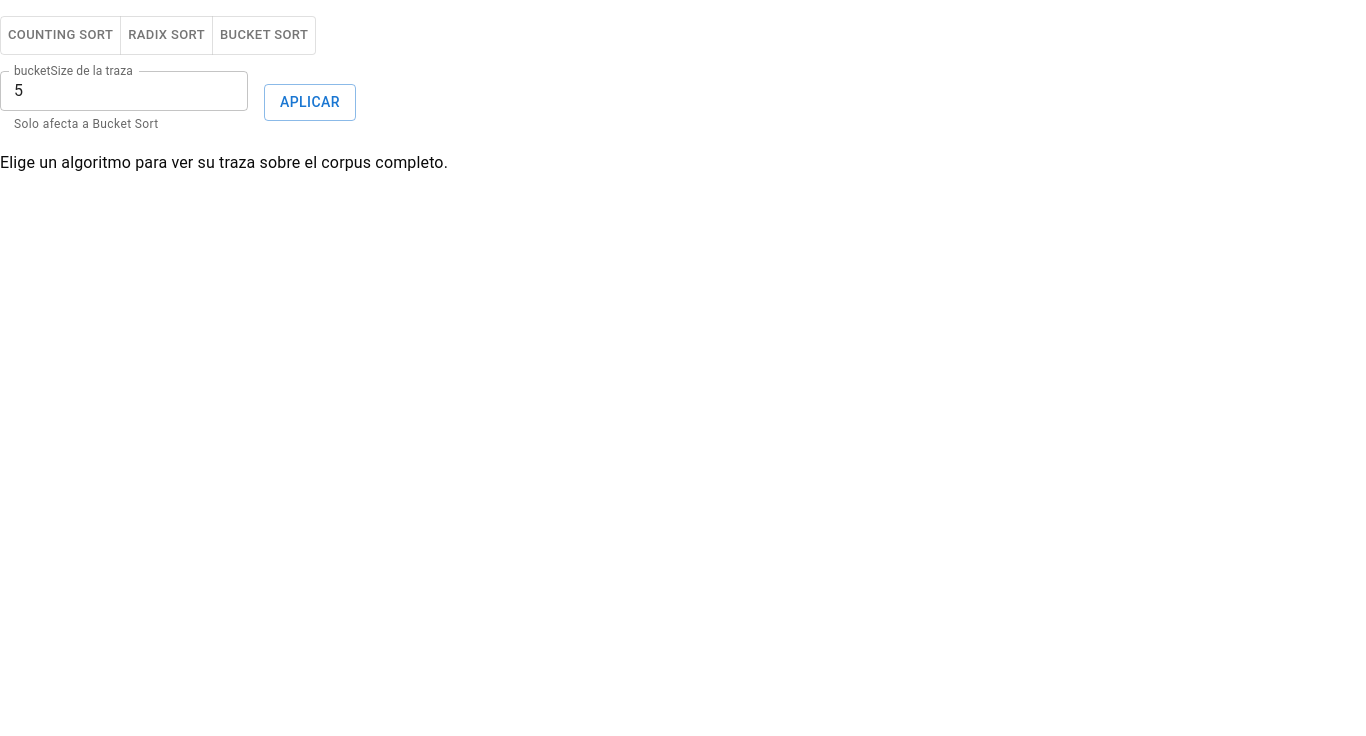
it: SortTraceView (REQ-16, AC-12, AC-25) › muestra los pasos de Bucket Sort en orden y pide la traza con el bucketSize elegido
Replace the text in the field labelled "bucketSize de la traza" with "2" at (124, 91), box x1=0 y1=71 x2=248 y2=111
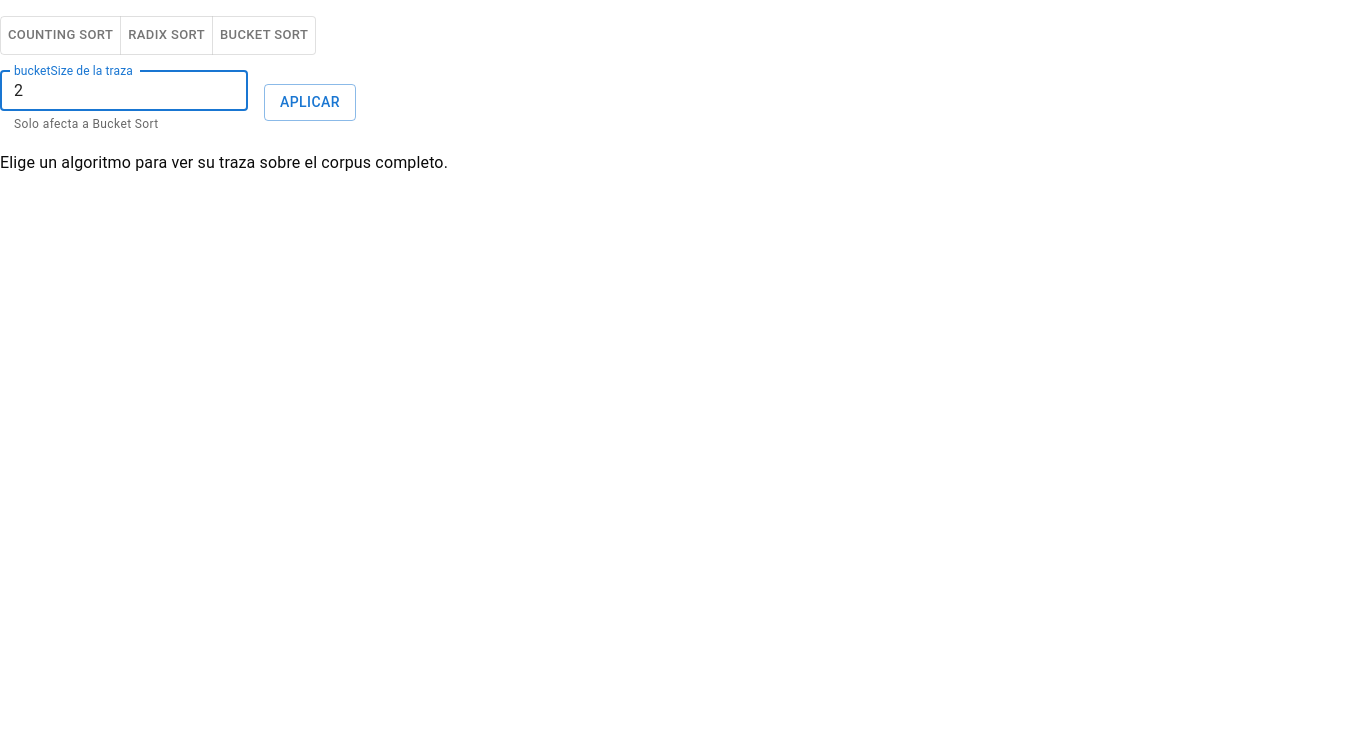
Click the button "Aplicar".
click(310, 103)  # box x1=264 y1=84 x2=356 y2=121
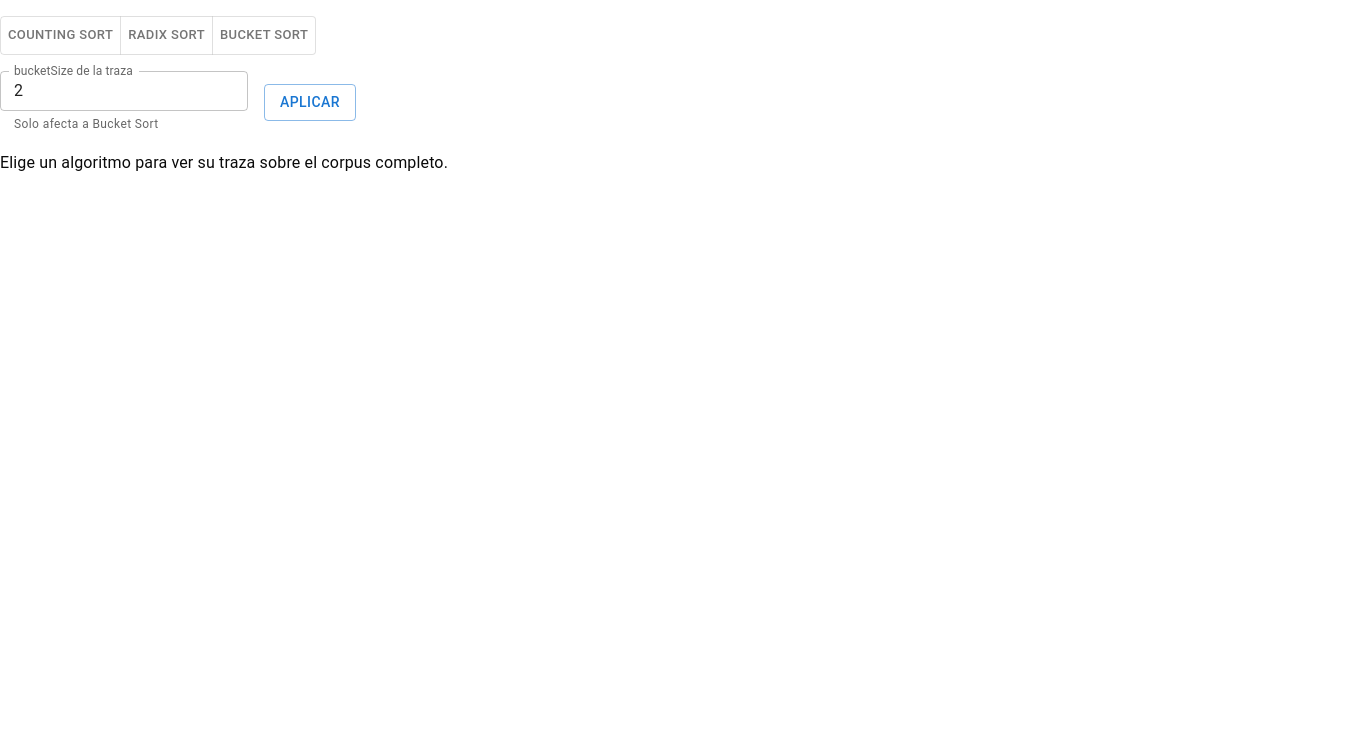
Click the button "Bucket Sort".
click(264, 35)  # box x1=212 y1=16 x2=316 y2=55
(page scrolled)
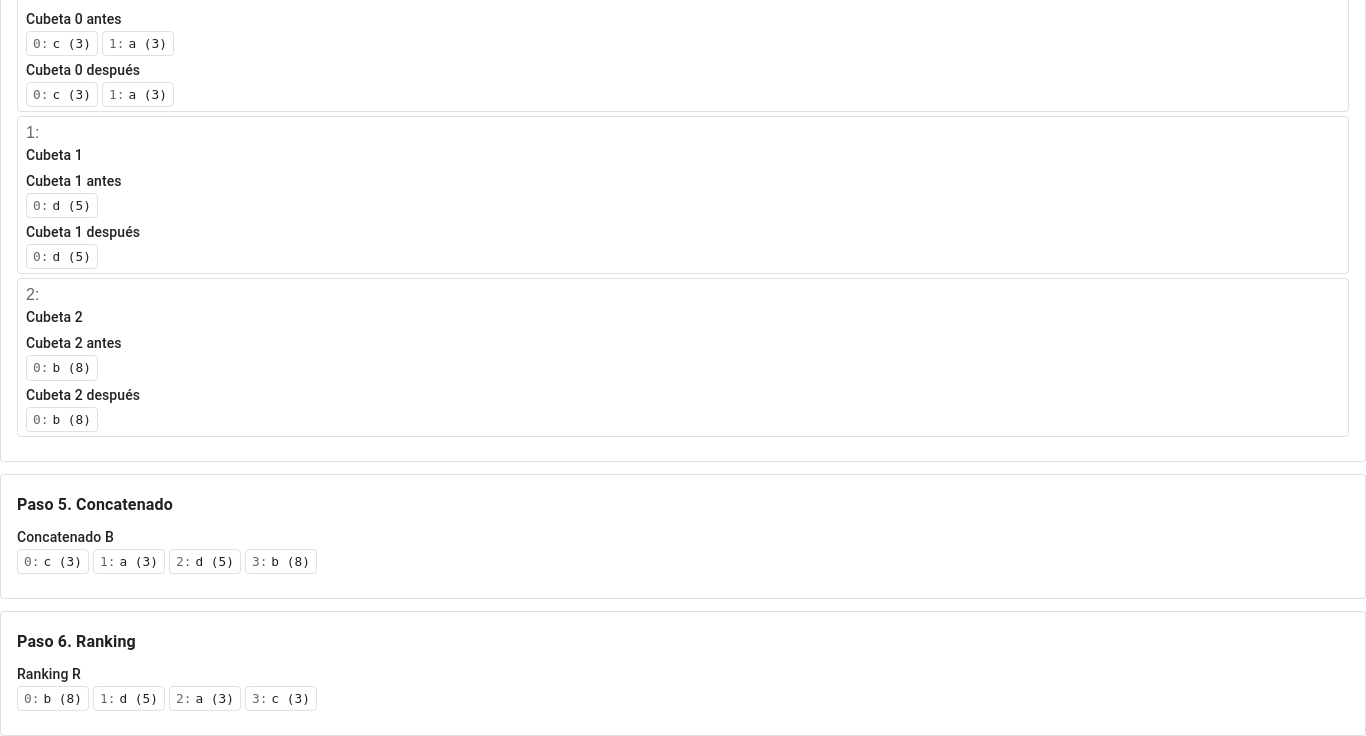
Check: the text "c (3)" below "Cubeta 0 antes" is shown, box x1=52 y1=36 x2=91 y2=51
Check: the text "a (3)" below "Cubeta 0 antes" is shown, box x1=128 y1=36 x2=167 y2=51
Check: the element "Cubeta 2 después" shows "b (8)", box x1=52 y1=412 x2=91 y2=426
